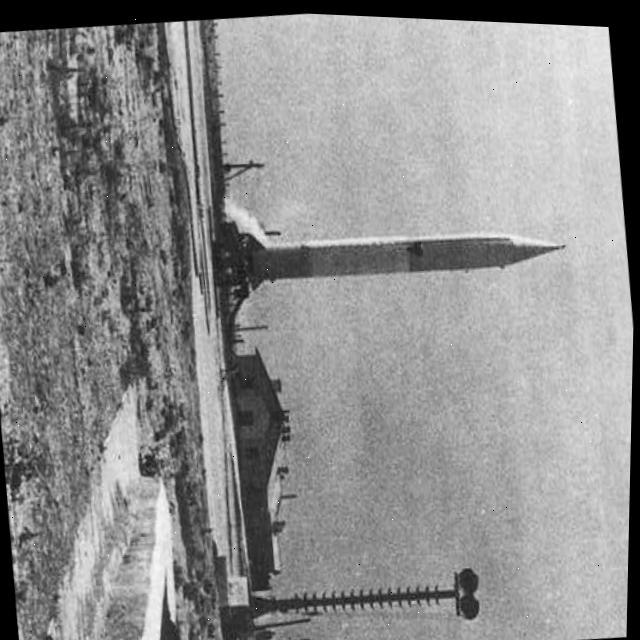missile: (226, 181, 574, 314)
